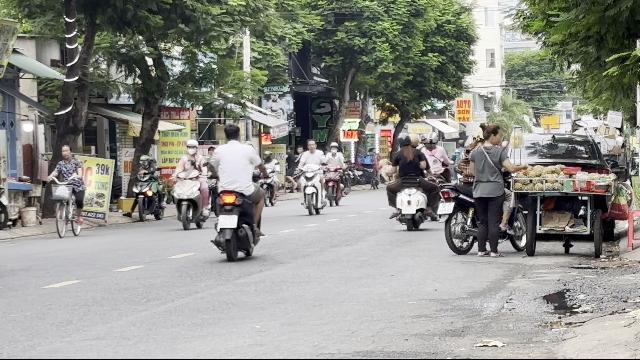helmet: (186, 138, 198, 154)
licenseplate: (218, 215, 238, 229), (438, 202, 454, 214)
motorcyclist: (207, 122, 267, 260), (170, 138, 210, 230)
nohelmet: (222, 122, 240, 142), (184, 160, 198, 172)
